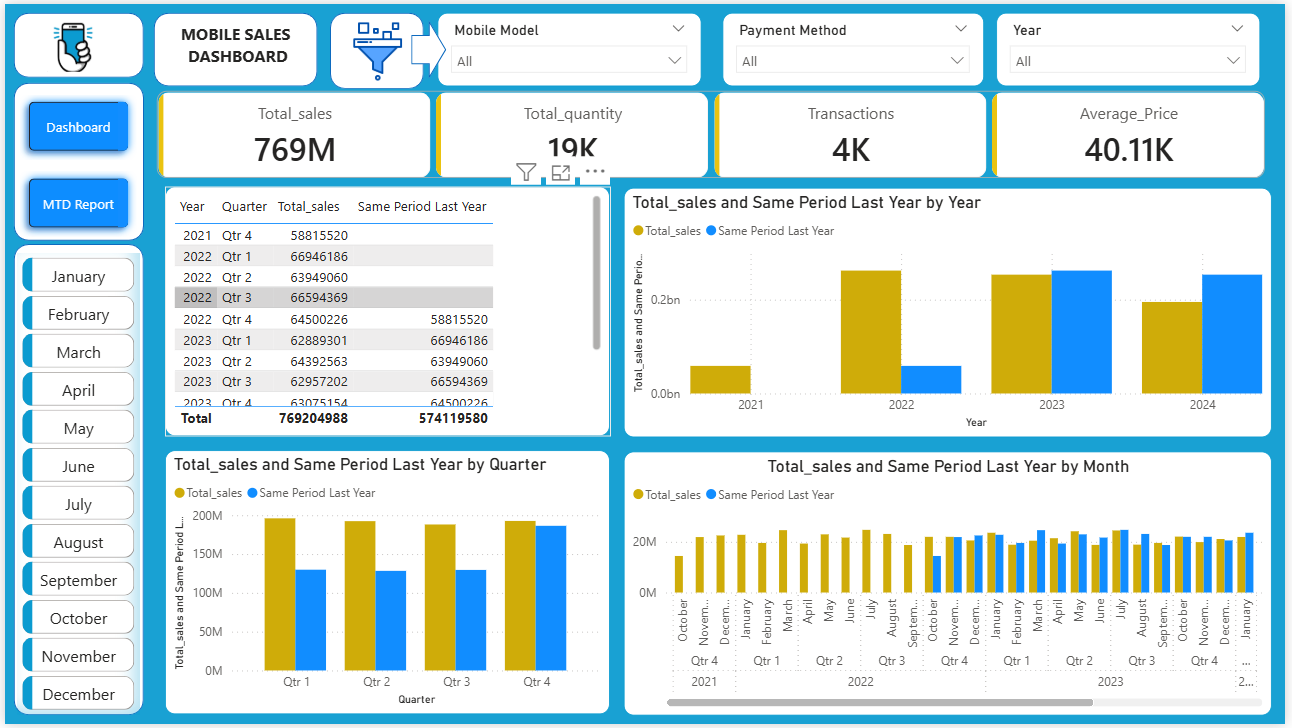

The page's visual inventory and layout, read from the dashboard file:
{"tool":"powerbi","page":{"name":"Same Period last Year","canvas":[1280,720],"ordinal":2},"visuals":[{"type":"shape","box":[8.8,8.8,130,65],"z":0},{"type":"image","box":[21.2,15,93.8,52.5],"z":1000},{"type":"shape","box":[8.4,78.4,130.3,158],"z":2000},{"type":"cardVisual","fields":{"Data":["Sales_data.Total_sales","Sales_data.Total_quantity","Sales_data.Transactions","Sales_data.Average_Price"]},"box":[135.1,70,1144.9,121.9],"z":3000},{"type":"slicer","fields":{"Values":["Sales_data.Mobile Model"]},"box":[432.5,8.8,263.8,73.8],"z":4000},{"type":"slicer","fields":{"Values":["Custom_calendar.Date.Variation.Date Hierarchy.Year"]},"box":[991.2,8.8,263.8,73.8],"z":5000},{"type":"slicer","fields":{"Values":["Sales_data.Payment Method"]},"box":[717.5,8.8,261.2,73.8],"z":6000},{"type":"shape","box":[325,8.8,93.8,76.2],"z":7000},{"type":"image","box":[338.8,17.5,67.5,60],"z":8000},{"type":"shape","box":[148.8,8.8,163.8,73.8],"z":9000},{"type":"textbox","box":[160,13.8,141.2,60],"z":10000},{"type":"shape","box":[406.2,16.2,35,58.8],"z":11000},{"type":"shape","box":[8.8,240,130,471.2],"z":12000},{"type":"listSlicer","fields":{"Values":["Custom_calendar.Date.Variation.Date Hierarchy.Month"]},"box":[12.5,248.8,122.5,462.5],"z":13000},{"type":"tableEx","fields":{"Values":["Custom_calendar.Date.Variation.Date Hierarchy.Year","Custom_calendar.Date.Variation.Date Hierarchy.Quarter","Sales_data.Total_sales","Sales_data.Same Period Last Year"]},"box":[160.5,182.2,445.2,249.7],"z":14000},{"type":"clusteredColumnChart","fields":{"Category":["Custom_calendar.Date.Variation.Date Hierarchy.Year","Custom_calendar.Date.Variation.Date Hierarchy.Quarter"],"Y":["Sales_data.Total_sales","Sales_data.Same Period Last Year"]},"box":[618.9,183.4,647.9,249.7],"z":15000},{"type":"clusteredColumnChart","title":"Total_sales and Same Period Last Year by Month","fields":{"Y":["Sales_data.Total_sales","Sales_data.Same Period Last Year"],"Category":["Custom_calendar.Date.Variation.Date Hierarchy.Year","Custom_calendar.Date.Variation.Date Hierarchy.Quarter","Custom_calendar.Date.Variation.Date Hierarchy.Month","Custom_calendar.Date.Variation.Date Hierarchy.Day"]},"box":[618.9,447.6,647.9,264.2],"z":16000},{"type":"clusteredColumnChart","fields":{"Category":["Custom_calendar.Date.Variation.Date Hierarchy.Year","Custom_calendar.Date.Variation.Date Hierarchy.Quarter"],"Y":["Sales_data.Total_sales","Sales_data.Same Period Last Year"]},"box":[160.5,446.4,445.2,264.2],"z":17000},{"type":"pageNavigator","box":[14.5,89.3,117,146],"z":18000}]}

Visuals, with their boxes in screenshot pixels (x1, y1, x2, y2), scaled from the page's 1280x720 canvas onto the 1292x728 screenshot:
shape: <box>9,9,140,75</box>
image: <box>21,15,116,68</box>
shape: <box>8,79,140,239</box>
cardVisual - Sales_data.Total_sales x Sales_data.Total_quantity: <box>136,71,1291,194</box>
slicer - Sales_data.Mobile Model: <box>437,9,703,84</box>
slicer - Custom_calendar.Date.Variation.Date Hierarchy.Year: <box>1000,9,1267,84</box>
slicer - Sales_data.Payment Method: <box>724,9,988,84</box>
shape: <box>328,9,423,86</box>
image: <box>342,18,410,78</box>
shape: <box>150,9,316,84</box>
textbox: <box>162,14,304,75</box>
shape: <box>410,16,445,76</box>
shape: <box>9,243,140,719</box>
listSlicer - Custom_calendar.Date.Variation.Date Hierarchy.Month: <box>13,252,136,719</box>
tableEx - Custom_calendar.Date.Variation.Date Hierarchy.Year x Custom_calendar.Date.Variation.Date Hierarchy.Quarter: <box>162,184,611,437</box>
clusteredColumnChart - Custom_calendar.Date.Variation.Date Hierarchy.Year x Custom_calendar.Date.Variation.Date Hierarchy.Quarter: <box>625,185,1279,438</box>
"Total_sales and Same Period Last Year by Month" clusteredColumnChart: <box>625,453,1279,720</box>
clusteredColumnChart - Custom_calendar.Date.Variation.Date Hierarchy.Year x Custom_calendar.Date.Variation.Date Hierarchy.Quarter: <box>162,451,611,718</box>
pageNavigator: <box>15,90,133,238</box>
